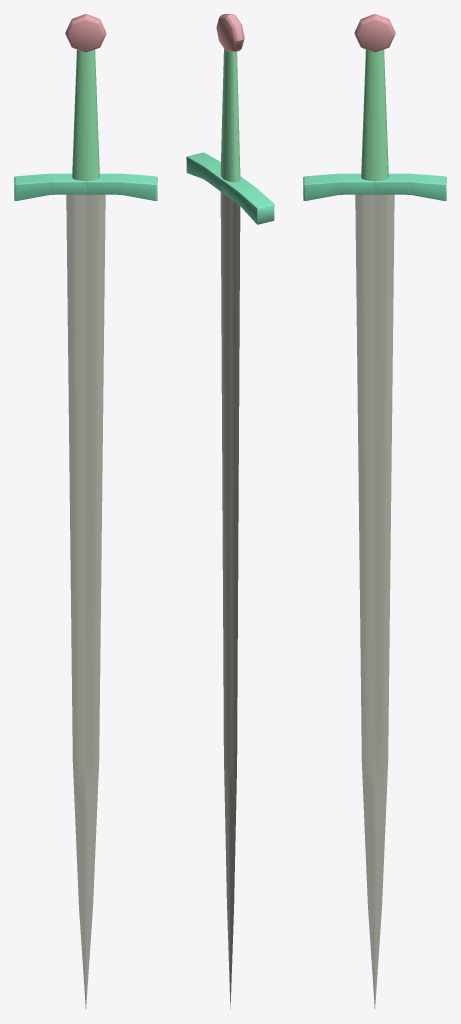
3 views of the same model, side by side, from view 1: azimuth 90°, elevation 25°; view 2: azimuth 210°, elevation 25°; view 3: azimuth 270°, elevation 25° (orthographic).
Visible parts, largest first — view 1: Circle.002_0, Circle_0, split_parent_0, split_parent_2; view 2: Circle.002_0, split_parent_0, Circle_0, split_parent_2; view 3: Circle.002_0, Circle_0, split_parent_0, split_parent_2.
Boxes of the visible parts, box(x1,y1,x2,y2) form: Circle.002_0: box(66, 194, 105, 1008); Circle_0: box(72, 49, 99, 181); split_parent_0: box(14, 173, 157, 200); split_parent_2: box(65, 14, 106, 52); Circle.002_0: box(220, 192, 240, 1009); split_parent_0: box(186, 152, 274, 224); Circle_0: box(220, 49, 240, 182); split_parent_2: box(216, 14, 244, 51); Circle.002_0: box(355, 194, 394, 1008); Circle_0: box(361, 49, 388, 181); split_parent_0: box(303, 173, 446, 200); split_parent_2: box(354, 14, 395, 52).
Bounding box in the file's own units: 0.0189 × 1 × 0.1304.
